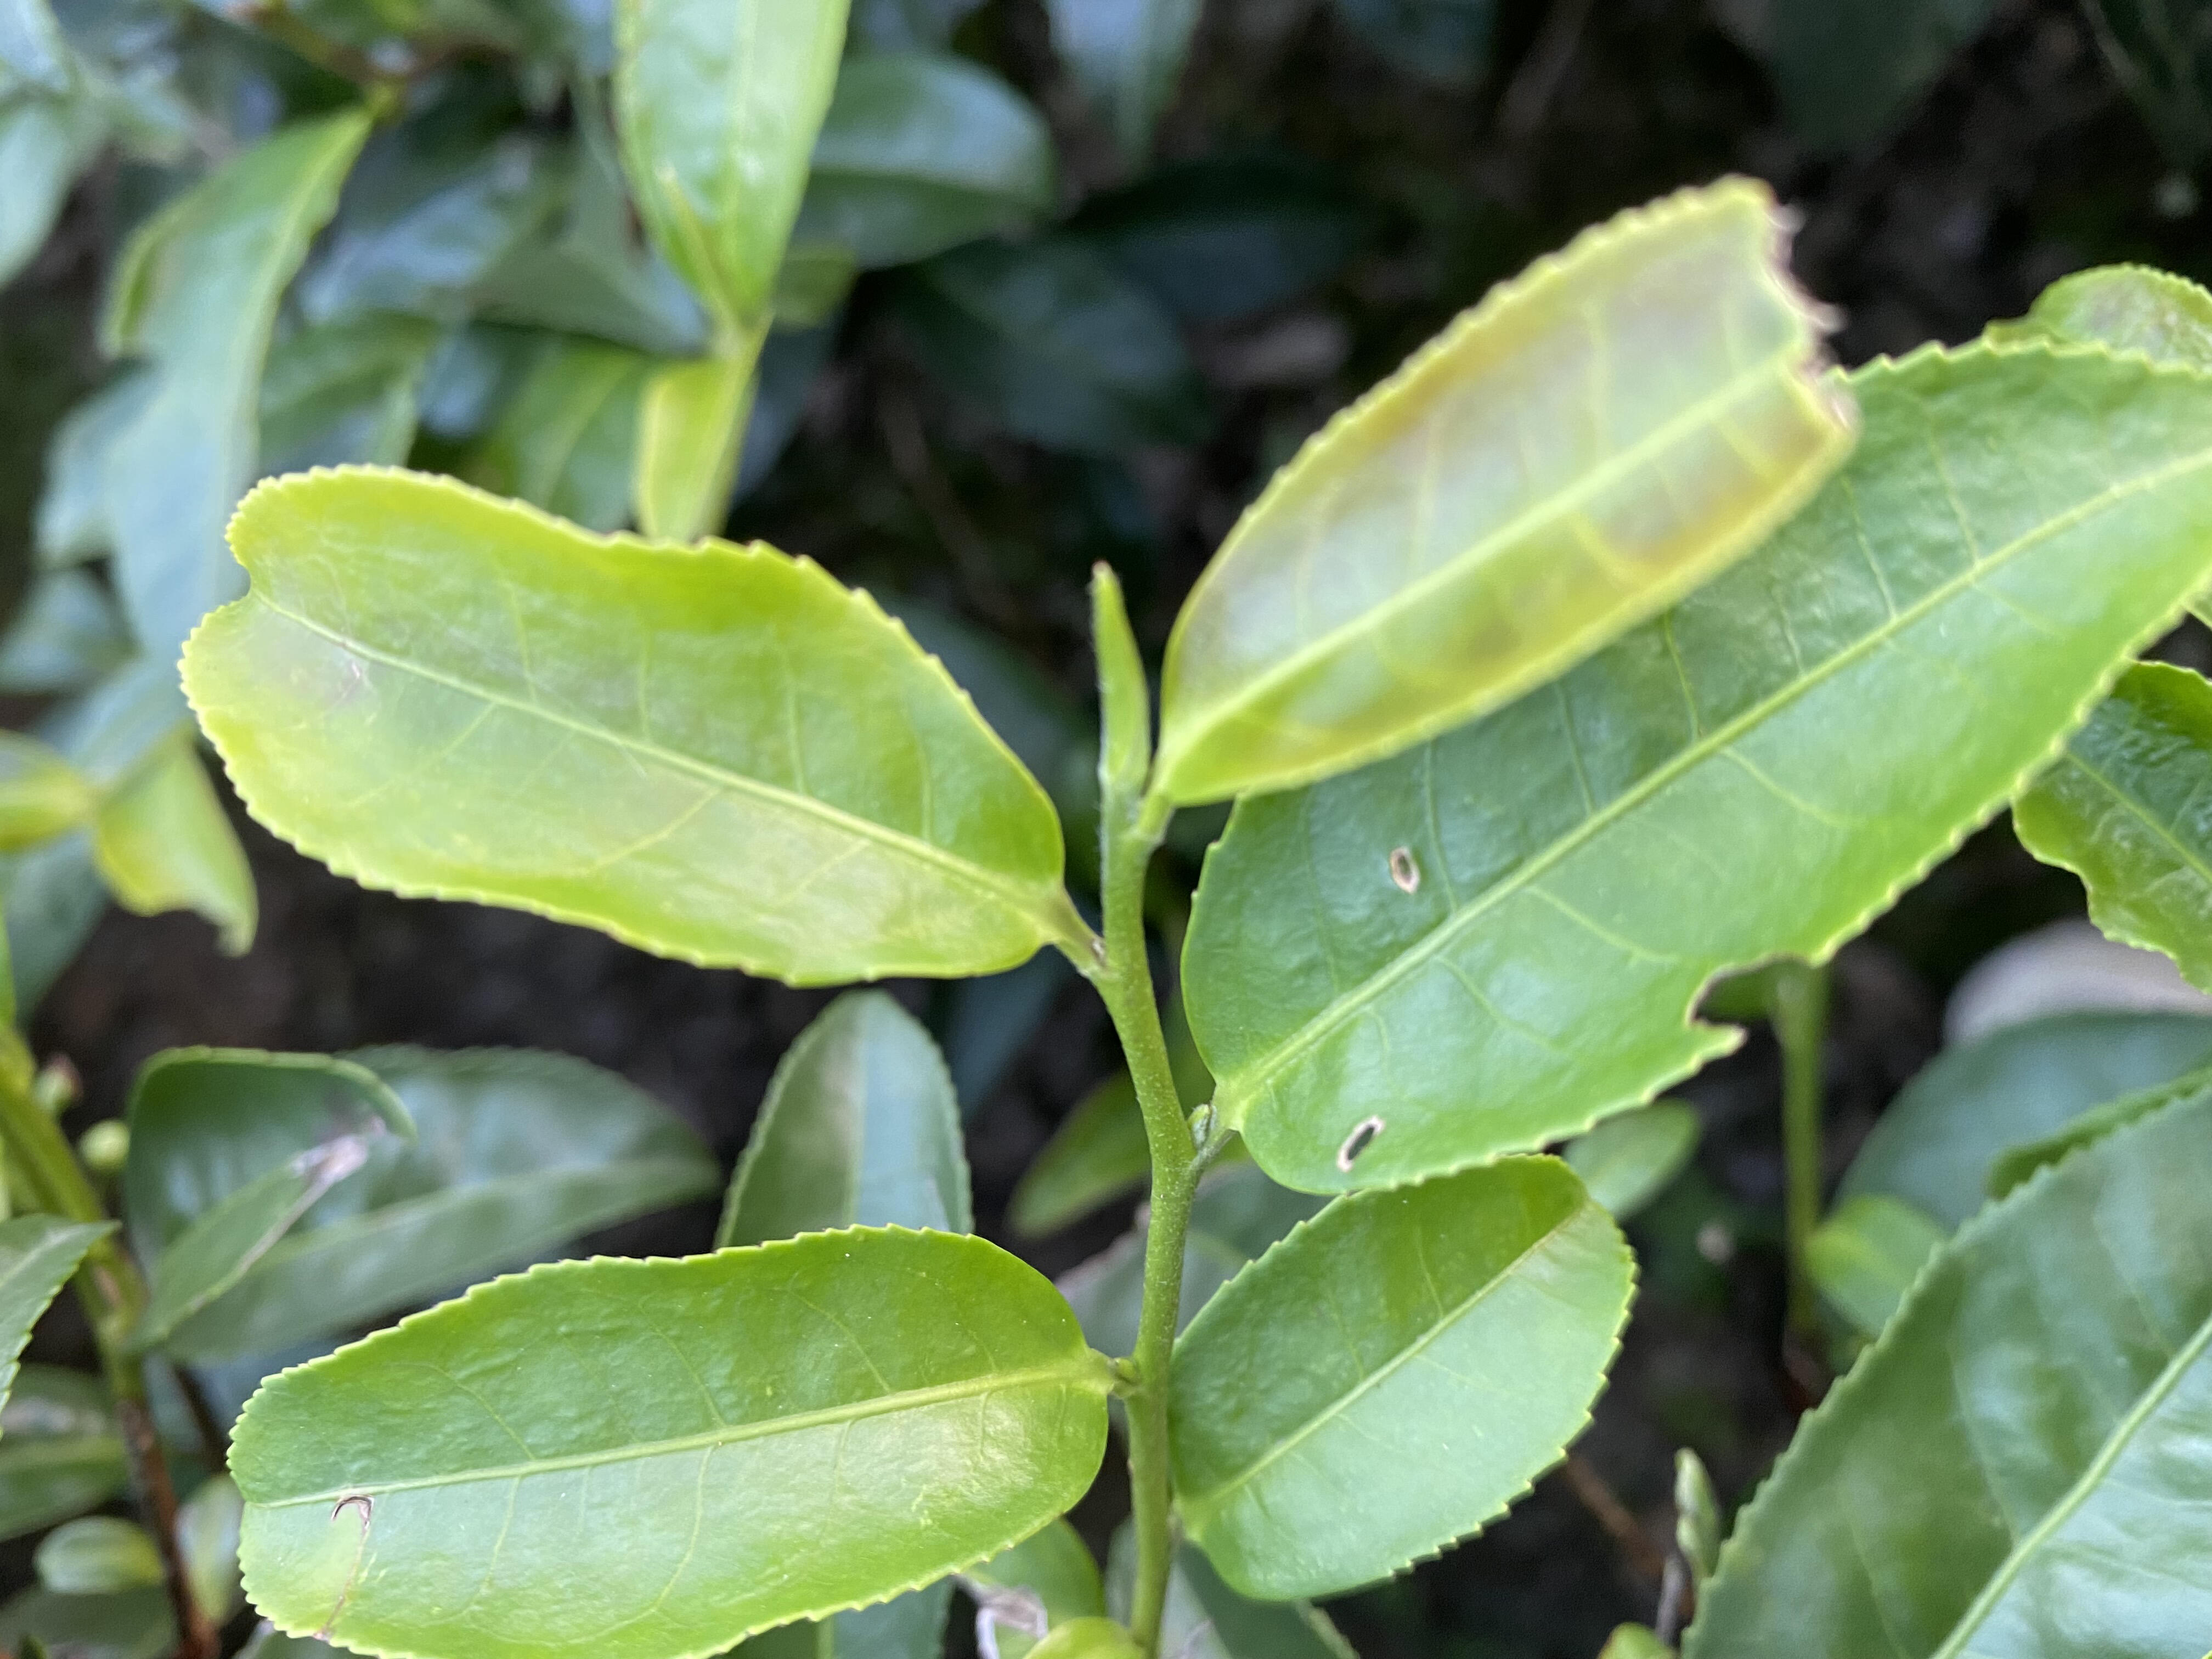chihuo_high: (1174, 335, 2209, 1194)
chihuo_low: (1158, 173, 1860, 805)
healthy: (176, 462, 1066, 993), (1165, 1154, 1639, 1607)
tanju_low: (225, 1222, 1113, 1657)
